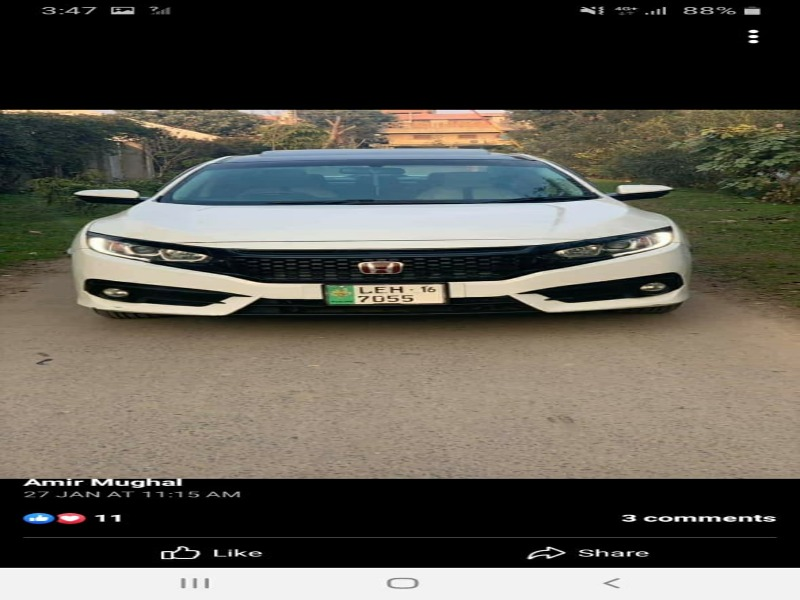License Plate: (321, 277, 454, 312)
